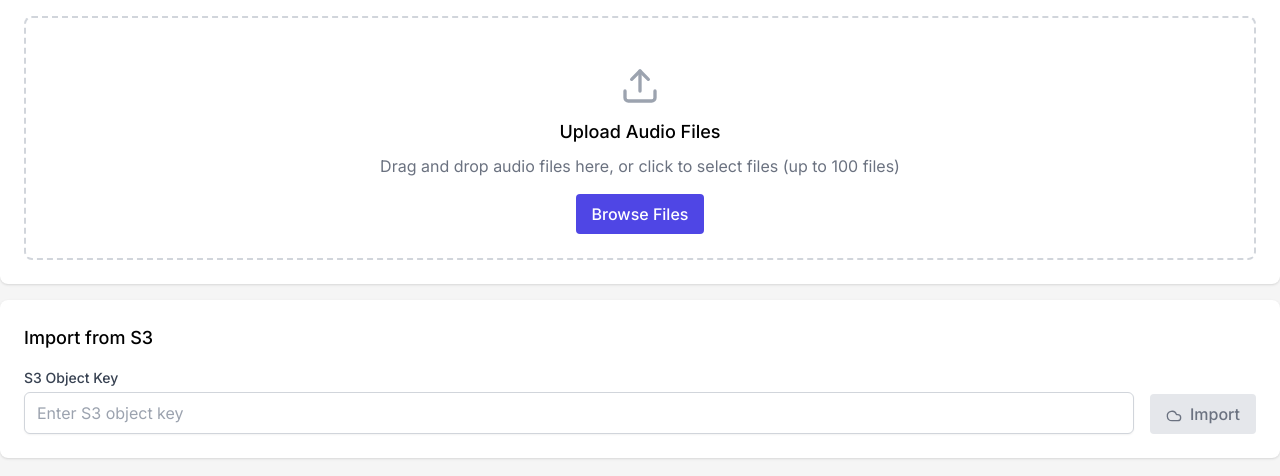
Test: UploadForm › should enable S3 import button when a key is entered
Type "s3-key" into the field with placeholder "Enter S3 object key". click: (579, 413)
box: [24, 392, 1134, 434]
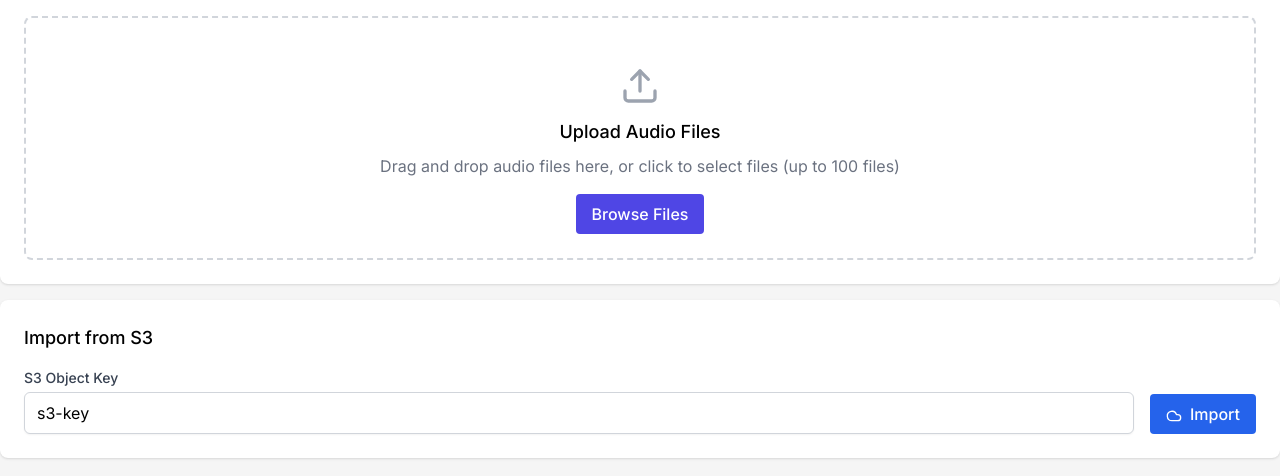
Result: the button "Import" is enabled at [1150, 394, 1256, 434]
